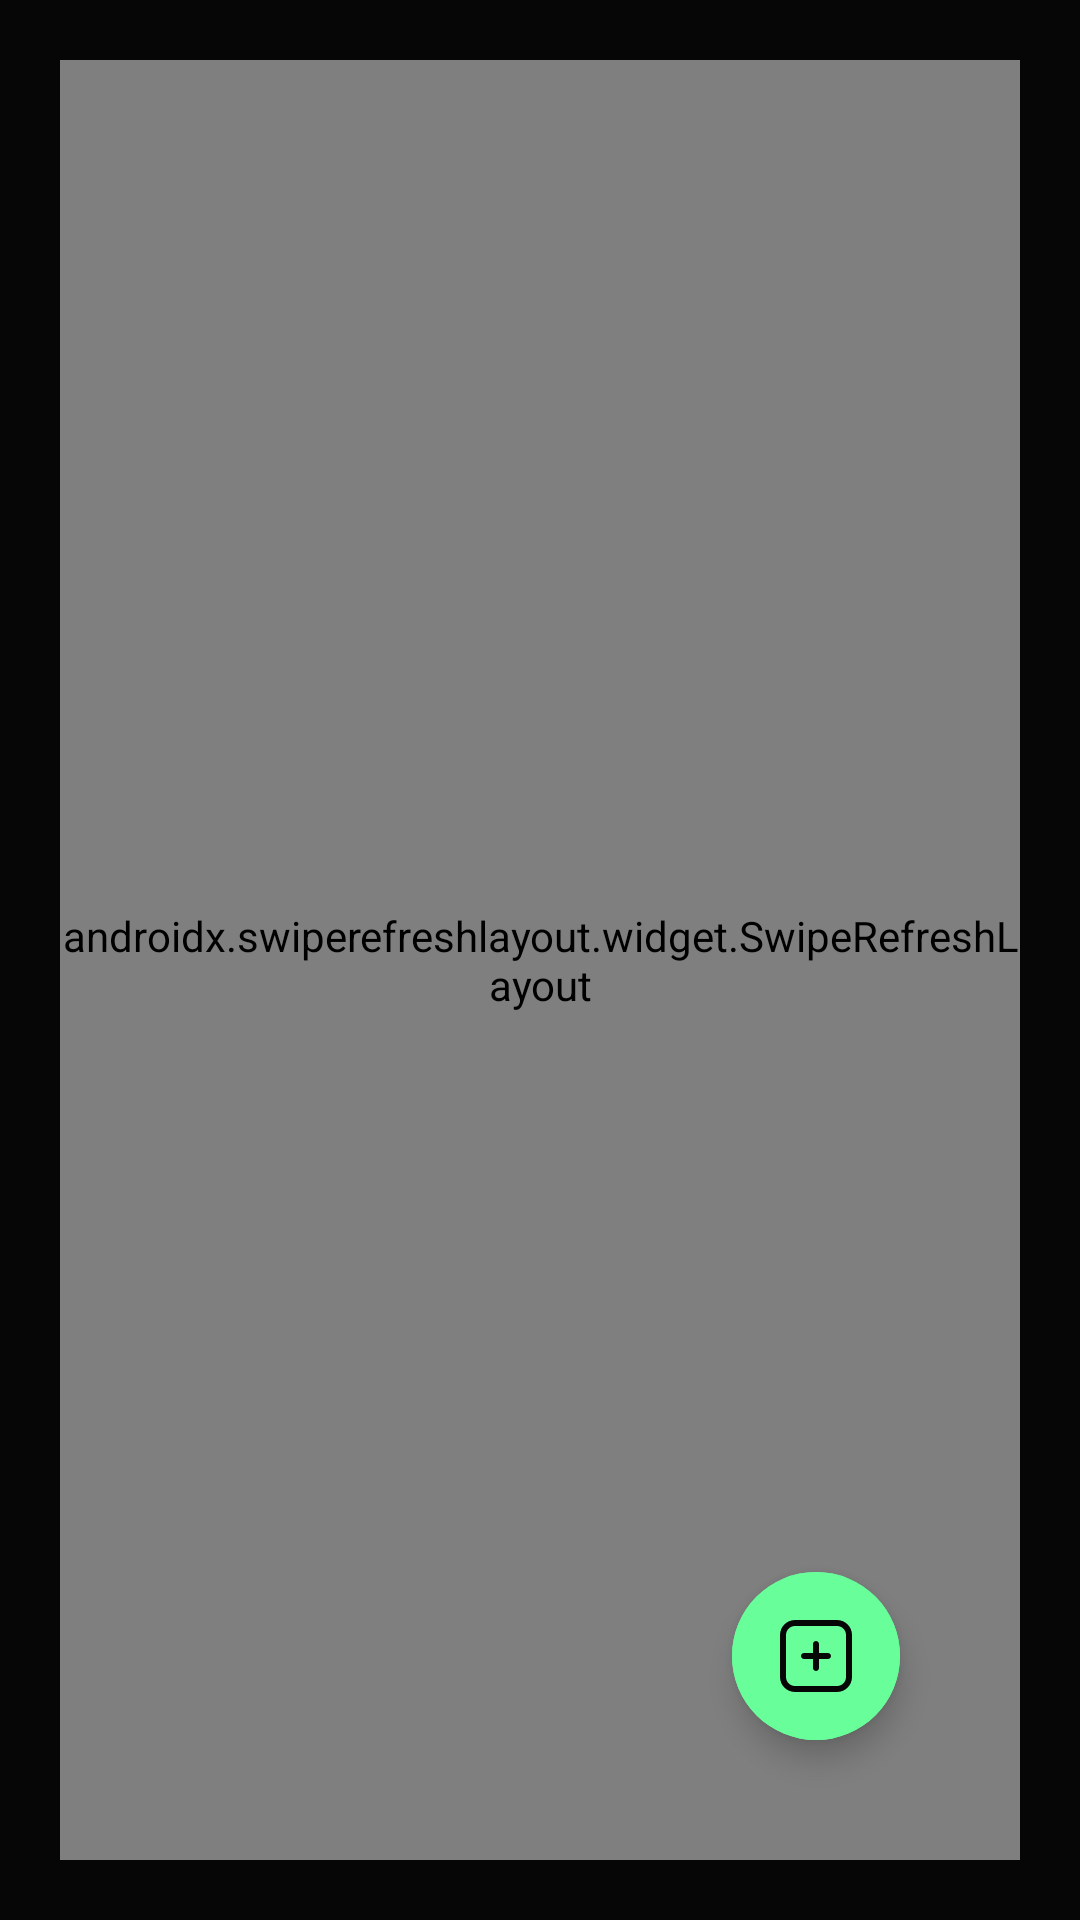

Where icons sit on this 1080 × 1920 app screen, as (x1, y1, x2, y2):
plus: (732, 1572, 900, 1740)
